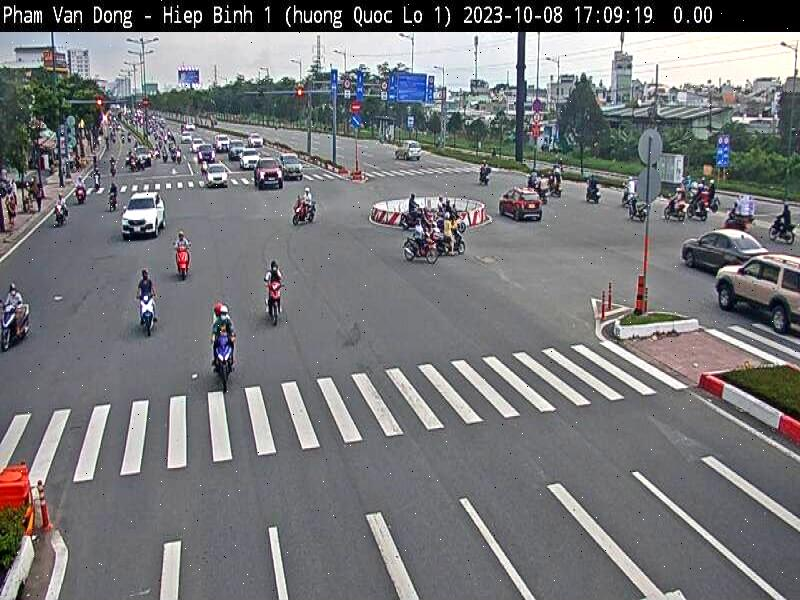car: (702, 249, 800, 347), (680, 209, 760, 289), (119, 182, 171, 266), (488, 172, 541, 234), (198, 157, 235, 208), (249, 151, 282, 208), (395, 129, 432, 170), (280, 142, 306, 200), (193, 135, 223, 176), (224, 130, 250, 166), (190, 141, 217, 161)
motorcycle: (192, 324, 257, 391), (114, 286, 174, 336), (254, 272, 297, 330), (0, 296, 29, 361), (283, 189, 324, 228), (171, 242, 197, 280)
